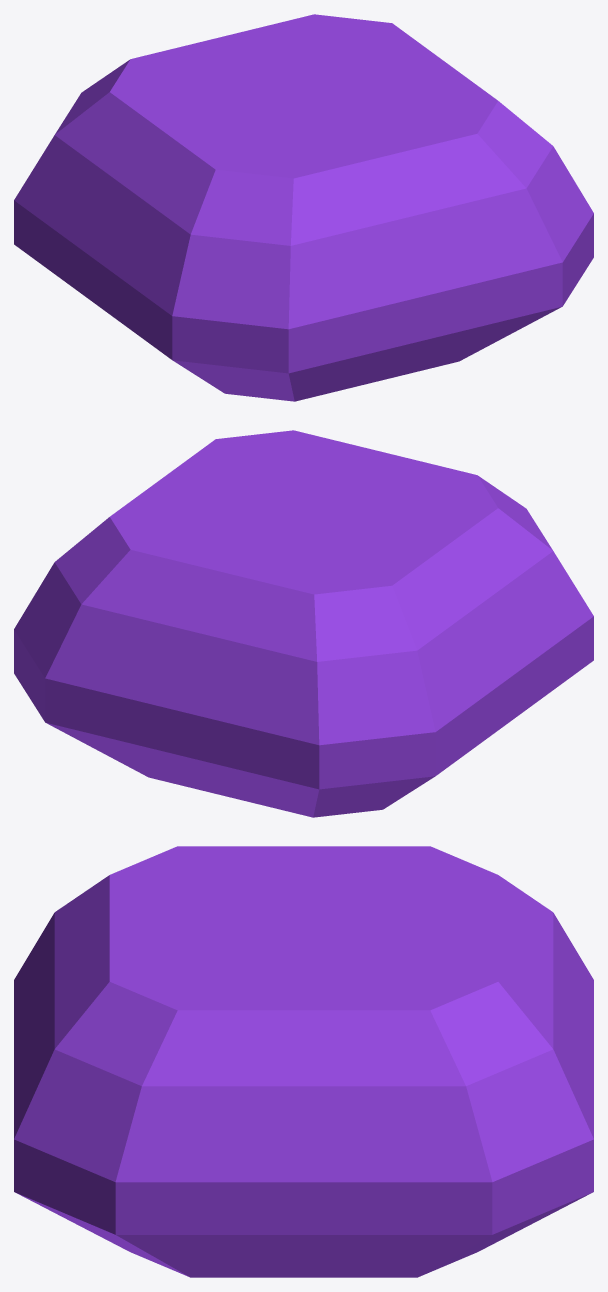
Rendered from SM_Amethyst_Flawless.fbx.
3 renders of one model, top to bottom at view 1: azimuth 30°, elevation 25°; view 2: azimuth 150°, elevation 25°; view 3: azimuth 270°, elevation 25°, orthographic. The views are drawn at different scales.
Parts seen in each view (by area): view 1: SM_Amethyst_Flawless; view 2: SM_Amethyst_Flawless; view 3: SM_Amethyst_Flawless.
Part boxes in pixels (left/top/right/bottom): SM_Amethyst_Flawless: left=14, top=14, right=593, bottom=401; SM_Amethyst_Flawless: left=14, top=430, right=593, bottom=817; SM_Amethyst_Flawless: left=14, top=846, right=593, bottom=1277.
Size of the model in its own units: 20 by 20 by 12.5.
